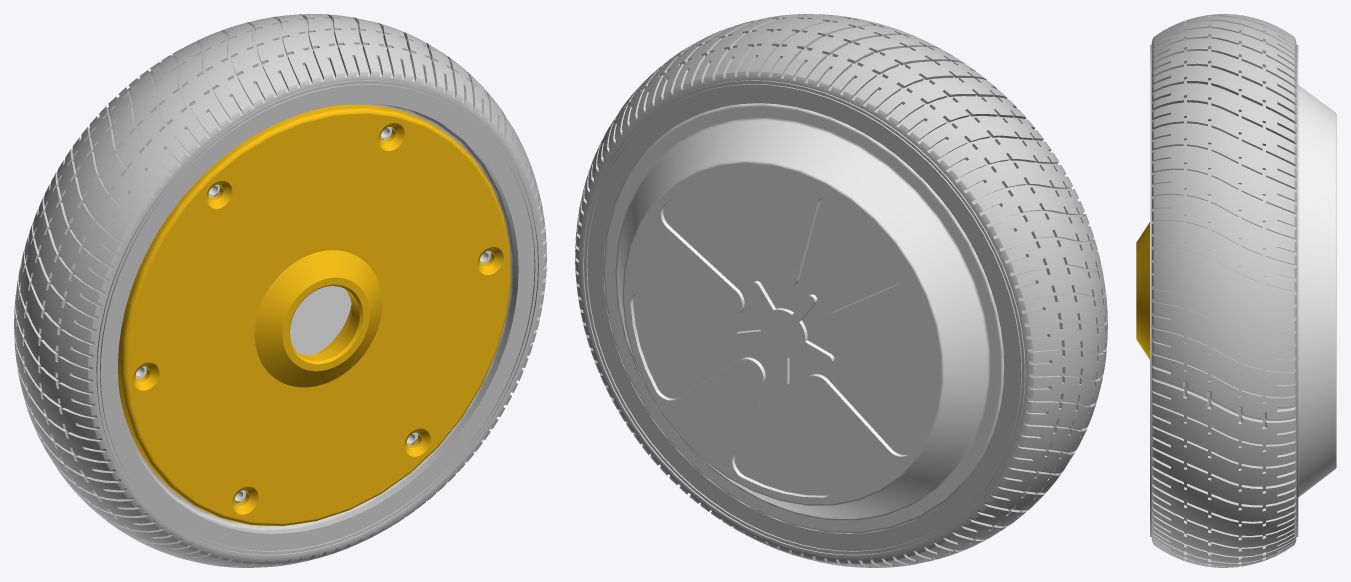
The model's file is hub_wheel.dae.
3 views of the same model, side by side, from view 1: azimuth 30°, elevation 25°; view 2: azimuth 150°, elevation 25°; view 3: azimuth 270°, elevation 25° (orthographic). The views are drawn at different scales.
Parts seen in each view (by area): view 1: Object.003, Object, Object.001; view 2: Object.001, Object; view 3: Object, Object.001, Object.003.
Part boxes in pixels (<box>): Object.003: <box>118,104,510,525</box>; Object: <box>14,14,546,567</box>; Object.001: <box>135,127,491,503</box>; Object.001: <box>603,103,1004,533</box>; Object: <box>575,14,1107,567</box>; Object: <box>1150,14,1298,567</box>; Object.001: <box>1298,84,1336,497</box>; Object.003: <box>1136,222,1149,359</box>.
Bounding box in the file's own units: 0.172 × 0.0622 × 0.172.
